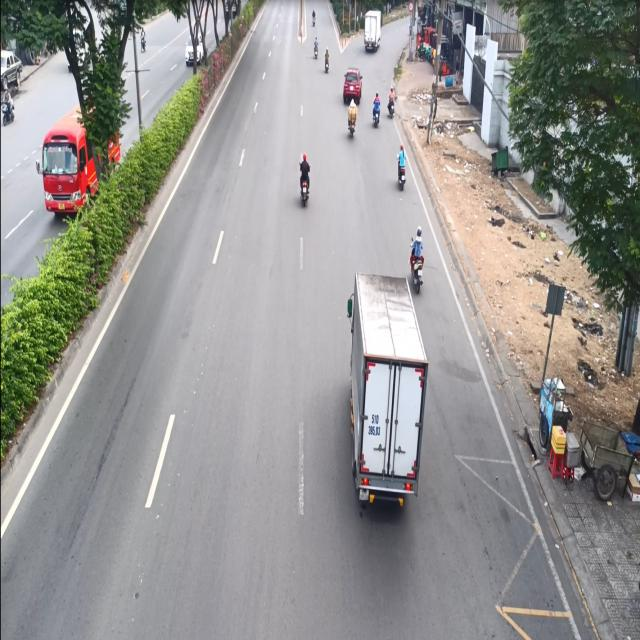car: (342, 63, 364, 106)
motor: (295, 149, 314, 205), (396, 142, 410, 198), (412, 230, 423, 298), (346, 102, 361, 140), (387, 83, 395, 125), (373, 89, 380, 130)
truck: (340, 267, 430, 531)
